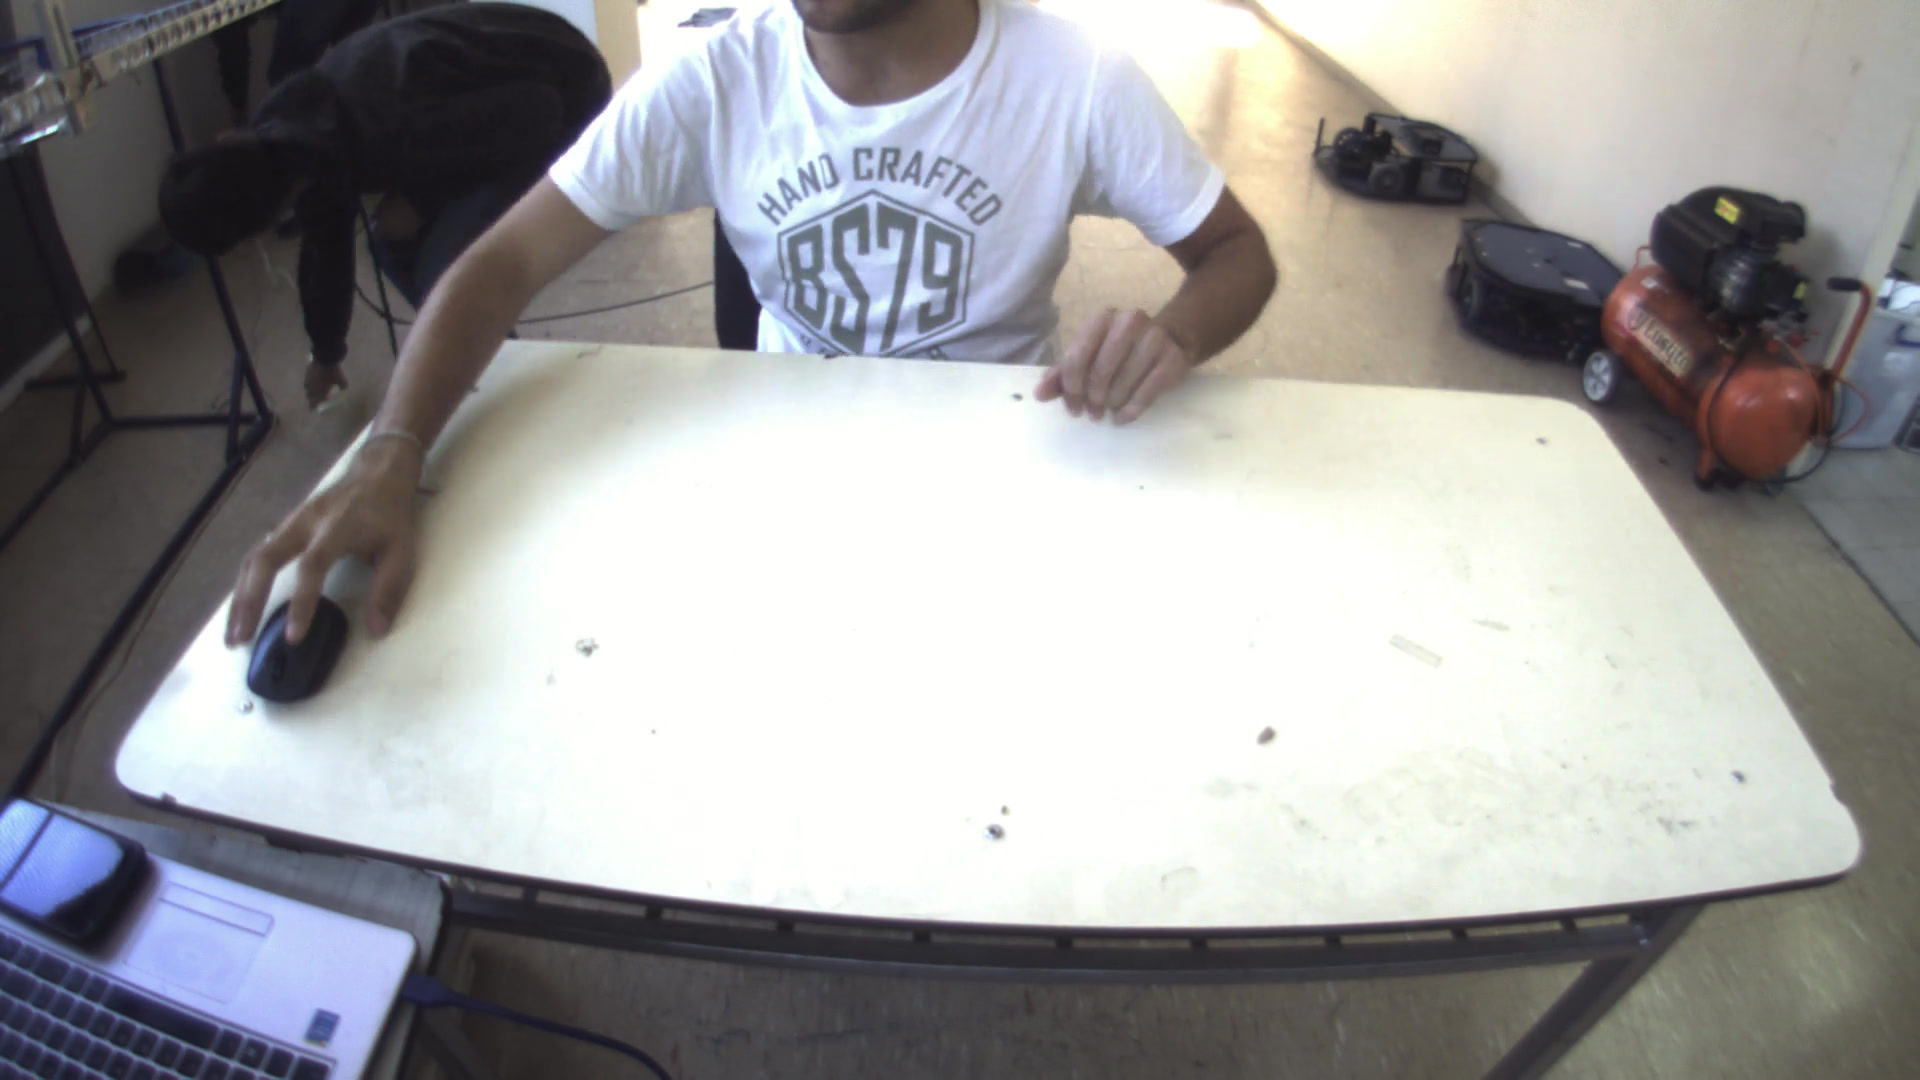hand: (214, 419, 448, 688), (1026, 276, 1197, 423)
